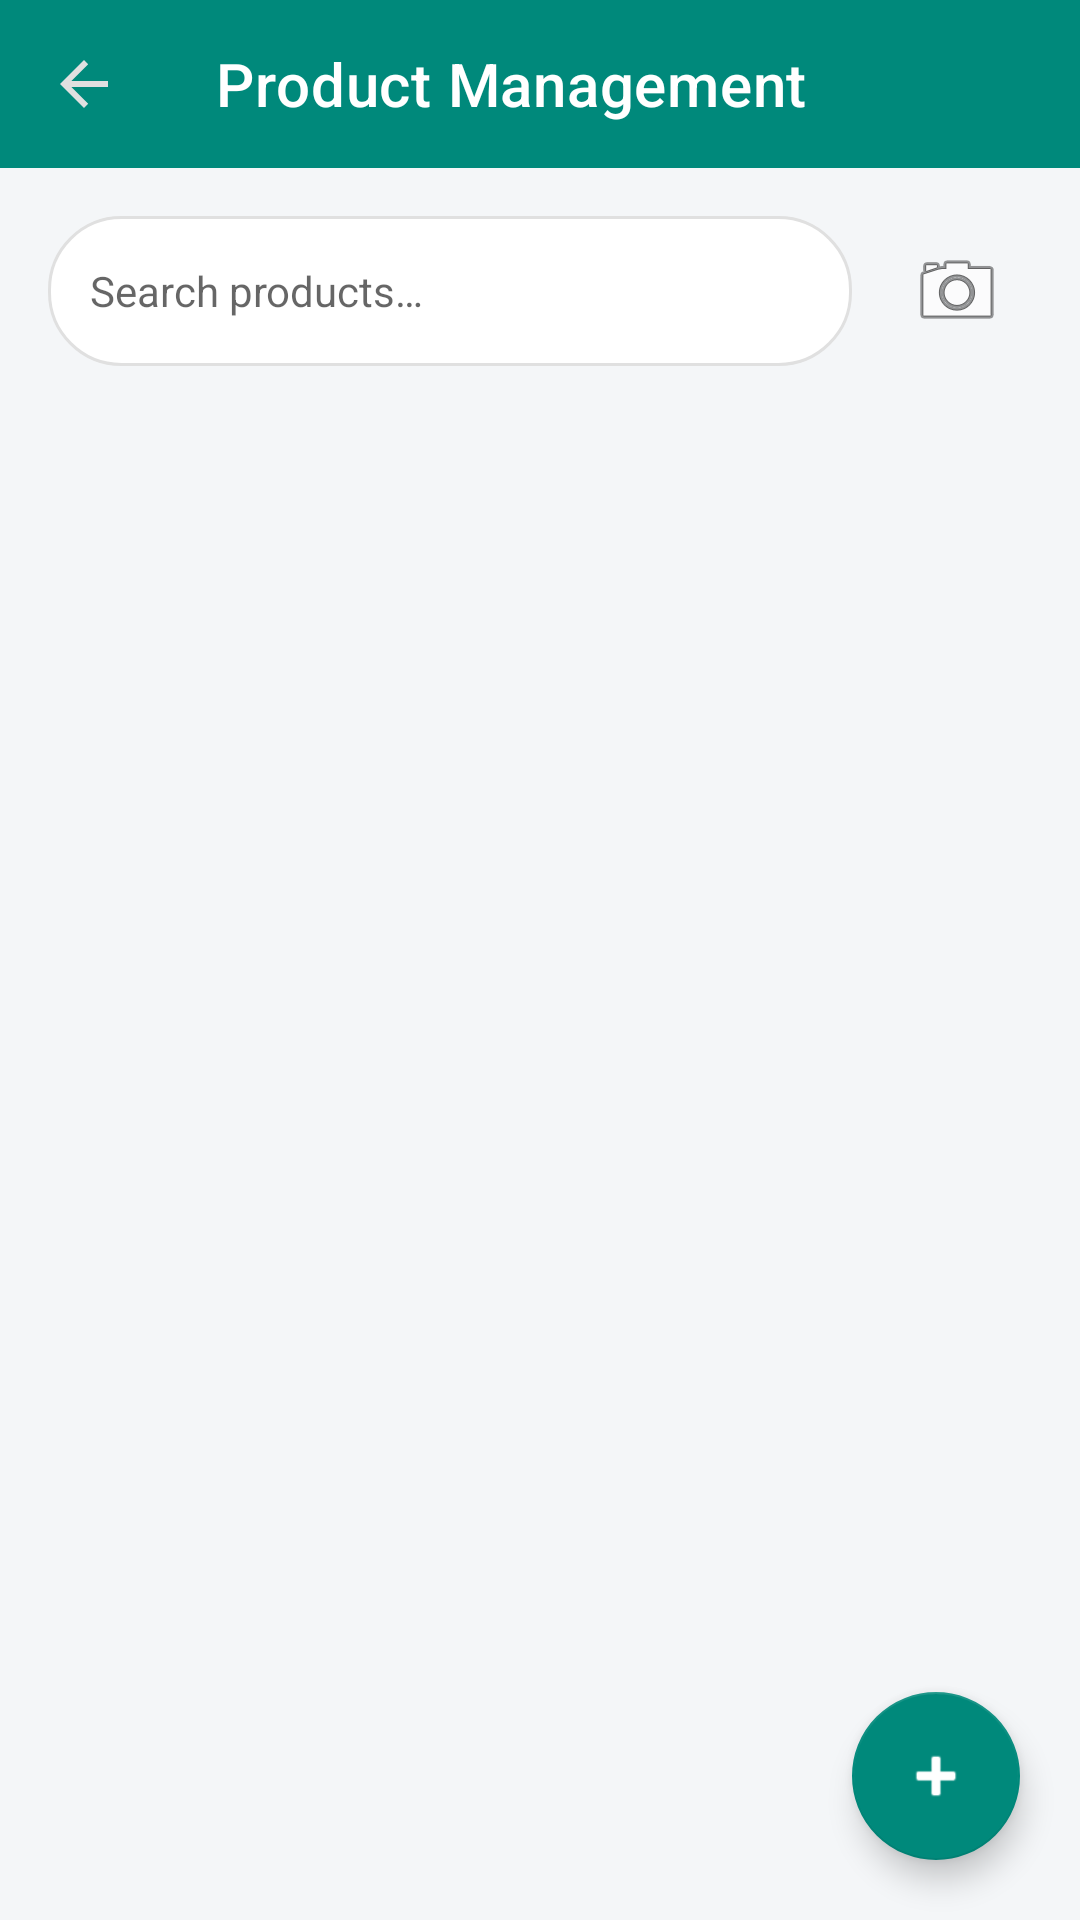

Where to tap for icons on this 1080px×1920px app screen, as (x,y):
Add Product: (936,1776)
